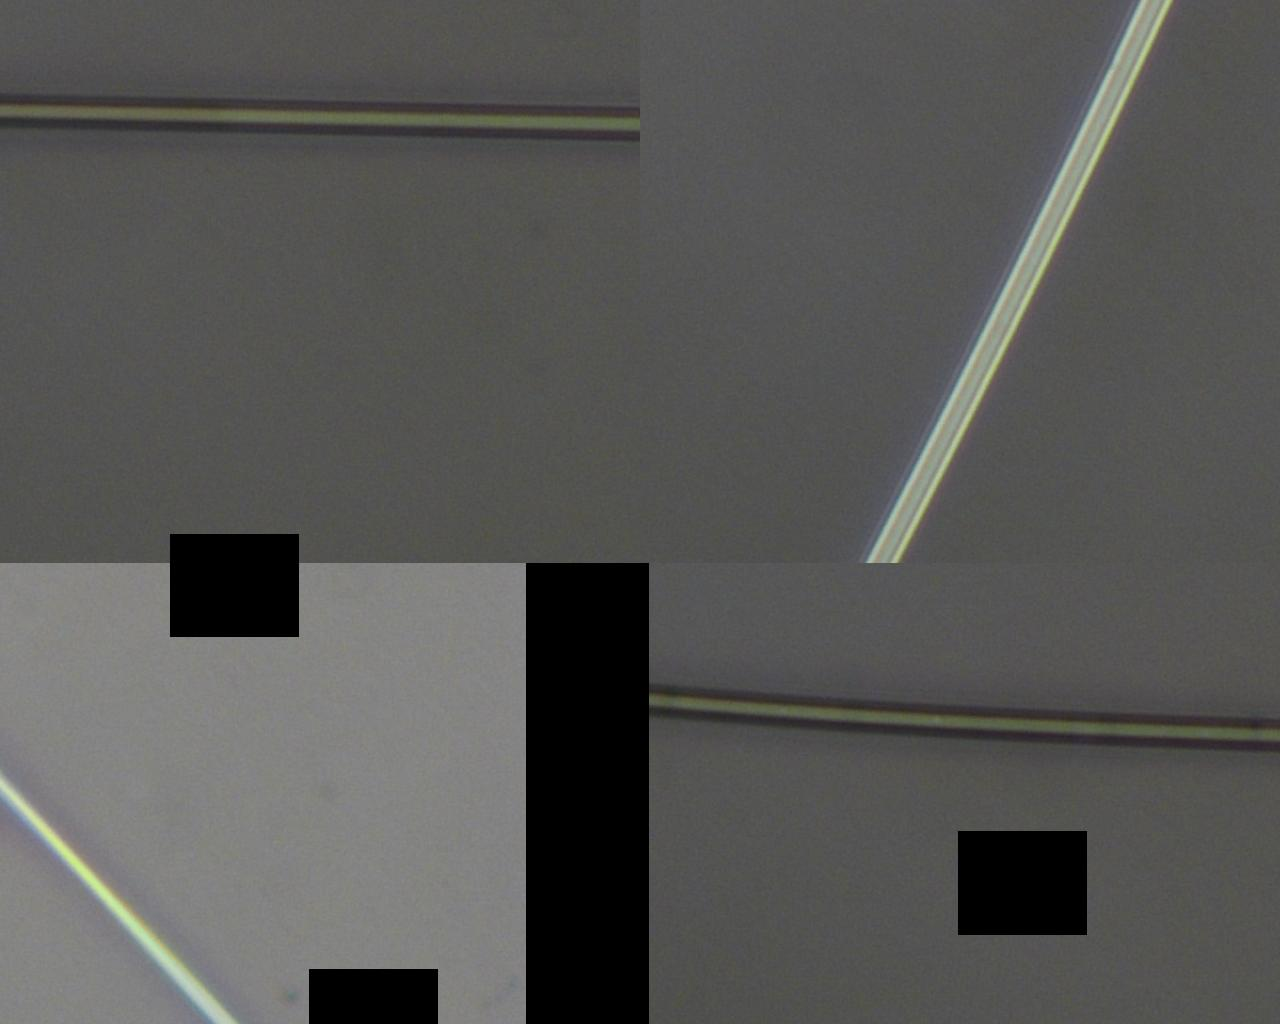fiber: (0, 399, 648, 804), (178, 0, 692, 399), (829, 0, 1255, 399), (939, 793, 1280, 1024)
